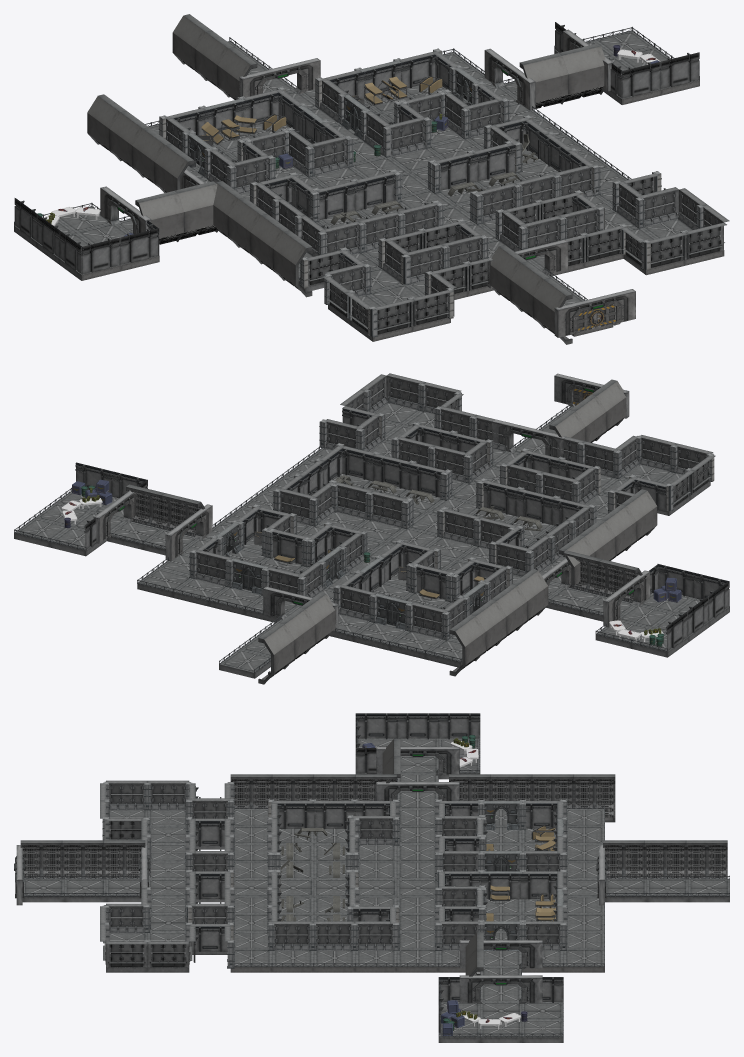
File: Level2 Zone1.fbx
3 renders of one model, top to bottom at view 1: azimuth 30°, elevation 25°; view 2: azimuth 150°, elevation 25°; view 3: azimuth 270°, elevation 25°, orthographic. The views are drawn at different scales.
Parts seen in each view (by area): view 1: Pared_low.013, Pared_low.003, Tunel_low.004, Tunel_low.001, Tunel_low.003, ParedHabitacion_low.005, ParedHabitacion_low.016, ParedHabitacion_low.025, ParedHabitacion_low.024, ParedHabitacion_low.004, PortonMarco_low.008, PortonMarco_low.001 (+48 smaller); view 2: Pared_low.013, Pared_low.003, Tunel_low.001, ParedHabitacion_low.013, ParedHabitacion_low.023, ParedHabitacion_low.022, Tunel_low.004, Tunel_low.003, ParedHabitacion_low.004, Pared_low.004, PortonMarco_low.006, Tunel_low.007 (+57 smaller); view 3: Pared_low.013, Pared_low.003, Tunel_low.001, ParedHabitacion_low.004, ParedHabitacion_low.013, ParedHabitacion_low.014, PortonMarco_low.005, ParedHabitacion_low.012, Tunel_low.014, Tunel_low.007, Tunel_low.006, Tunel_low.013 (+87 smaller).
Part boxes in pixels (bbox=[...]): Pared_low.013: bbox=[307, 173, 729, 334]; Pared_low.003: bbox=[256, 118, 594, 256]; Tunel_low.004: bbox=[519, 43, 605, 108]; Tunel_low.001: bbox=[172, 14, 257, 99]; Tunel_low.003: bbox=[135, 181, 218, 244]; ParedHabitacion_low.005: bbox=[621, 52, 699, 98]; ParedHabitacion_low.016: bbox=[330, 54, 435, 99]; ParedHabitacion_low.025: bbox=[319, 174, 394, 219]; ParedHabitacion_low.024: bbox=[439, 145, 515, 190]; ParedHabitacion_low.004: bbox=[14, 198, 83, 274]; PortonMarco_low.008: bbox=[554, 289, 635, 337]; PortonMarco_low.001: bbox=[239, 58, 320, 97]; Pared_low.013: bbox=[325, 373, 715, 508]; Pared_low.003: bbox=[279, 445, 590, 576]; Tunel_low.001: bbox=[258, 592, 336, 684]; ParedHabitacion_low.013: bbox=[342, 408, 666, 512]; ParedHabitacion_low.023: bbox=[342, 448, 441, 497]; ParedHabitacion_low.022: bbox=[483, 483, 582, 525]; Tunel_low.004: bbox=[126, 484, 204, 535]; Tunel_low.003: bbox=[563, 550, 642, 602]; ParedHabitacion_low.004: bbox=[665, 581, 728, 651]; Pared_low.004: bbox=[267, 567, 376, 621]; PortonMarco_low.006: bbox=[165, 504, 212, 561]; Tunel_low.007: bbox=[449, 615, 485, 676]; Pared_low.013: bbox=[100, 780, 234, 967]; Pared_low.003: bbox=[268, 801, 399, 950]; Tunel_low.001: bbox=[603, 840, 727, 878]; ParedHabitacion_low.004: bbox=[355, 713, 480, 739]; ParedHabitacion_low.013: bbox=[190, 786, 227, 962]; ParedHabitacion_low.014: bbox=[277, 803, 355, 829]; PortonMarco_low.005: bbox=[459, 975, 542, 1003]; ParedHabitacion_low.012: bbox=[479, 873, 559, 899]; Tunel_low.014: bbox=[62, 840, 103, 878]; Tunel_low.007: bbox=[574, 774, 615, 822]; Tunel_low.006: bbox=[20, 840, 62, 878]; Tunel_low.013: bbox=[104, 840, 145, 878].
Bounding box in the file's own units: 6801 × 480 × 6886.
